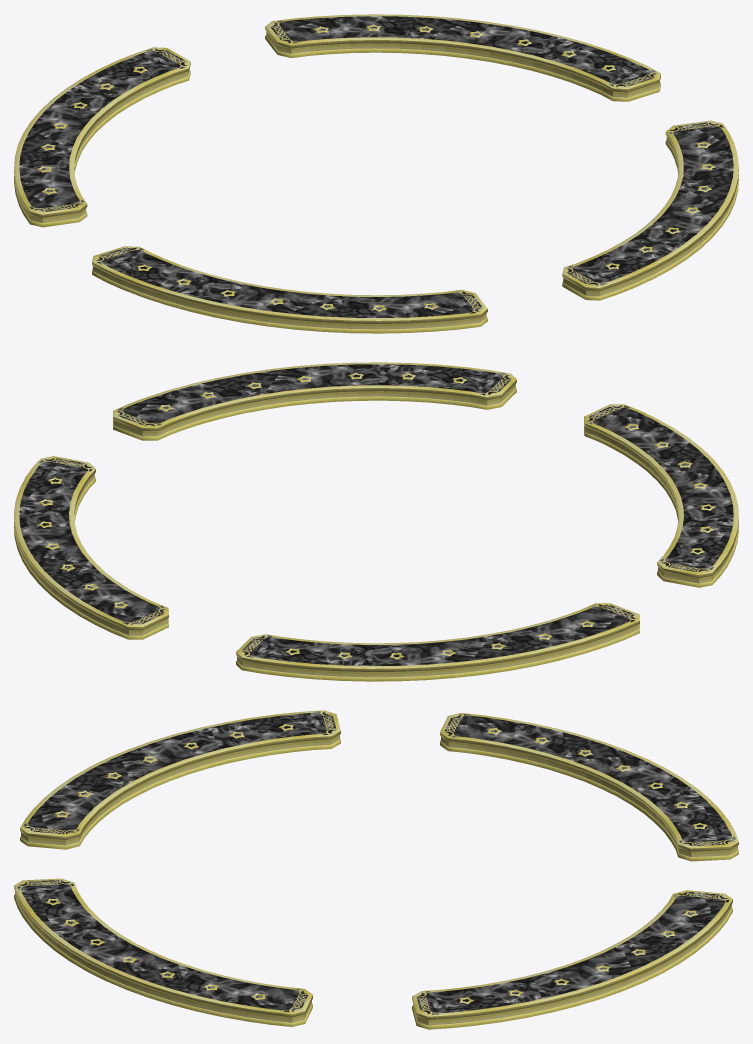
The model's file is plateA.obj.
3 views of the same model, one above another, from view 1: azimuth 30°, elevation 25°; view 2: azimuth 150°, elevation 25°; view 3: azimuth 270°, elevation 25° (orthographic).
Parts seen in each view (by area): view 1: n0b0_ID20, n3b3_ID47, n2b2_ID38, n1b1_ID29; view 2: n0b0_ID20, n3b3_ID47, n2b2_ID38, n1b1_ID29; view 3: n0b0_ID20, n3b3_ID47, n2b2_ID38, n1b1_ID29.
Boxes of the visible parts, box(x1,y1,x2,y2) form: n0b0_ID20: box(19, 16, 733, 317); n3b3_ID47: box(14, 14, 738, 333); n2b2_ID38: box(37, 24, 715, 311); n1b1_ID29: box(43, 26, 709, 308); n0b0_ID20: box(19, 364, 733, 665); n3b3_ID47: box(14, 362, 738, 681); n2b2_ID38: box(37, 372, 715, 659); n1b1_ID29: box(53, 378, 699, 651); n0b0_ID20: box(17, 711, 735, 1014); n3b3_ID47: box(14, 710, 738, 1029); n2b2_ID38: box(45, 724, 707, 1003); n1b1_ID29: box(29, 716, 723, 1009).
Bounding box in the file's own units: 61.66 × 1.3 × 61.66.
3 materials, 3 textured.
